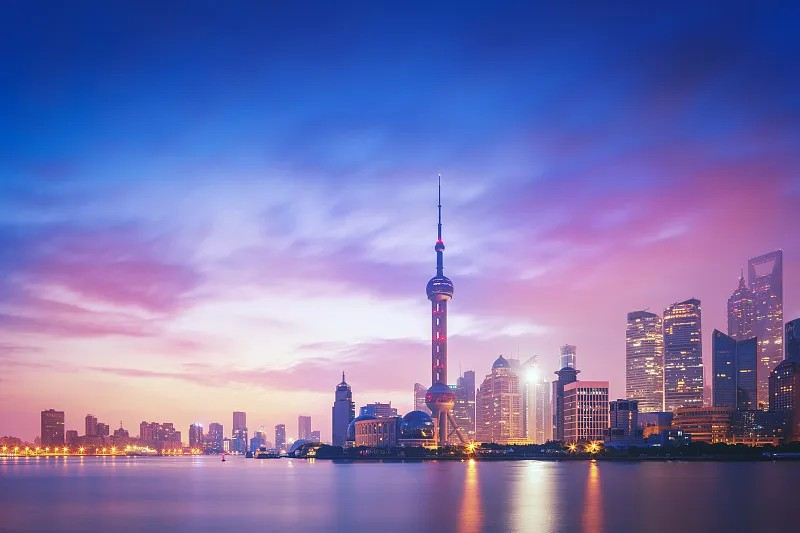Oriental: (425, 173, 468, 444)
